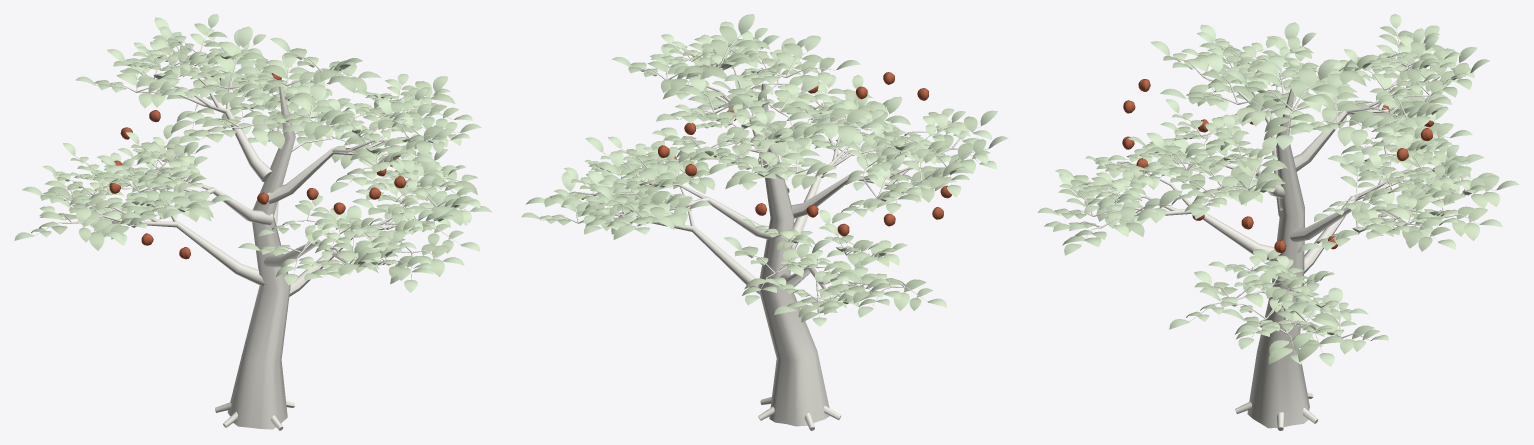
The model's file is SM_WLA_FruitTree_A.fbx.
3 views of the same model, side by side, from view 1: azimuth 30°, elevation 25°; view 2: azimuth 150°, elevation 25°; view 3: azimuth 270°, elevation 25° (orthographic). The views are drawn at different scales.
Visible parts, largest first — view 1: SM_WLA_FruitTree_A; view 2: SM_WLA_FruitTree_A; view 3: SM_WLA_FruitTree_A.
Boxes of the visible parts, <box> form: SM_WLA_FruitTree_A: <box>14,14,491,430</box>; SM_WLA_FruitTree_A: <box>521,14,1008,430</box>; SM_WLA_FruitTree_A: <box>1037,14,1519,430</box>.
Size of what is drawn, in the model's own units: 5.91 by 6.59 by 5.14.
